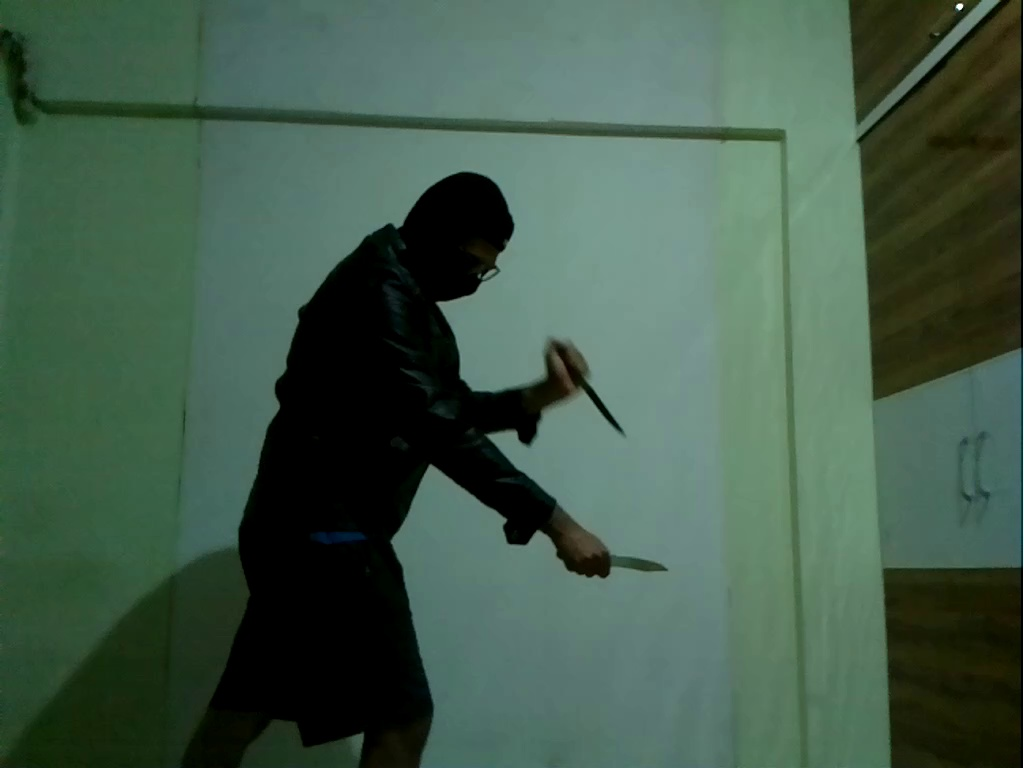knife: (570, 375, 632, 444), (598, 545, 679, 582)
